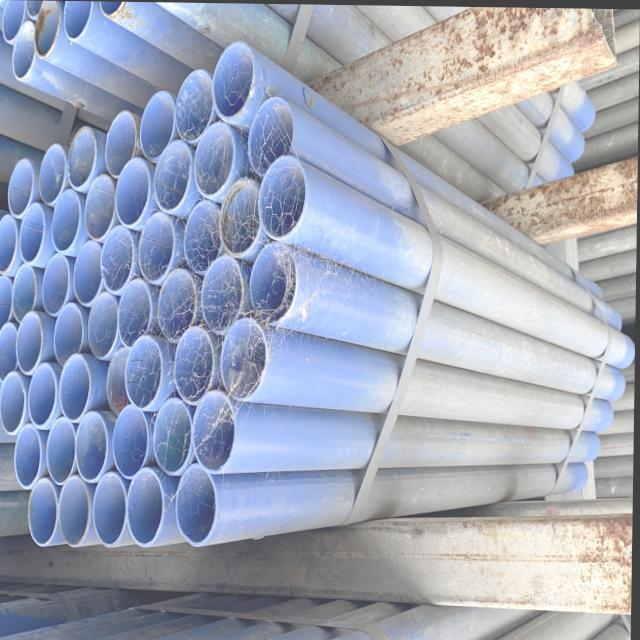pipe: (222, 315, 271, 402), (259, 154, 308, 241), (251, 239, 300, 325), (248, 94, 297, 175), (193, 389, 238, 474), (176, 462, 220, 547), (219, 175, 264, 258), (201, 253, 246, 334), (213, 40, 256, 120), (174, 326, 217, 404), (194, 119, 237, 197), (154, 397, 196, 476), (158, 266, 201, 342), (128, 466, 167, 548), (124, 333, 165, 410), (184, 199, 225, 275), (175, 67, 215, 143), (113, 403, 152, 479), (154, 138, 194, 212), (93, 471, 130, 548), (138, 212, 177, 285), (140, 88, 177, 160), (116, 157, 153, 228), (118, 278, 153, 348), (77, 410, 111, 482), (101, 225, 137, 293), (60, 475, 93, 547), (60, 352, 93, 422), (85, 172, 118, 242), (106, 108, 139, 178), (88, 290, 121, 360), (29, 477, 60, 548), (48, 416, 79, 486), (53, 302, 86, 367), (29, 362, 61, 429), (74, 240, 106, 307), (67, 125, 99, 191), (107, 345, 138, 413), (52, 189, 83, 255), (40, 142, 71, 206), (15, 422, 44, 490), (43, 253, 72, 317), (1, 371, 28, 436), (8, 159, 37, 219), (17, 311, 44, 375), (20, 200, 47, 264), (34, 2, 63, 59), (12, 266, 39, 323), (12, 22, 38, 78), (63, 0, 96, 41), (0, 321, 20, 384), (0, 215, 20, 276), (1, 0, 28, 40), (0, 275, 14, 333), (98, 0, 126, 20)
